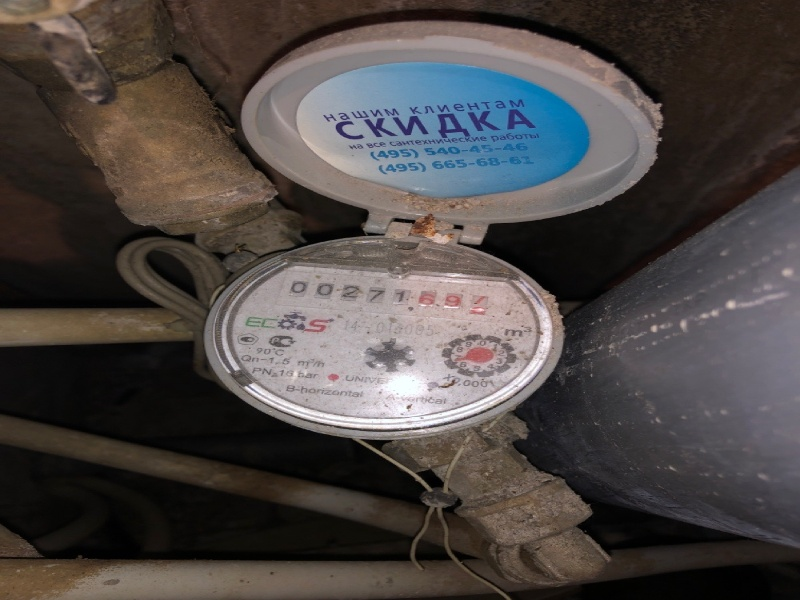meter: (289, 273, 495, 314)
